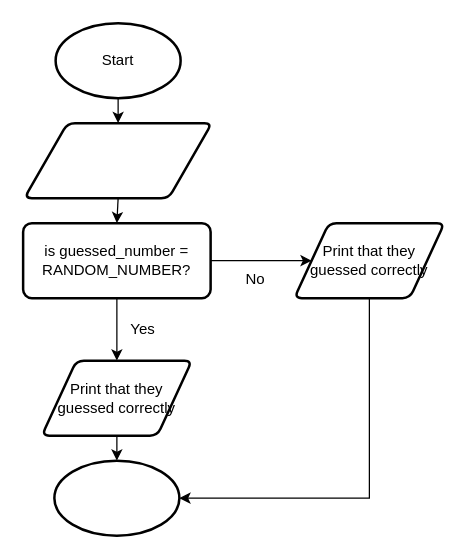
The diagram is 466 pixels wide and 558 high, and some of its shapes have lost their labels. Each missing label, with the centre of its shape:
Get guessed_number: pixel 117 160
Stop: pixel 116 497
